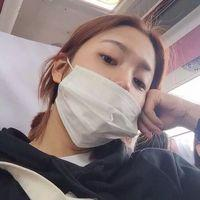WRONG: (56, 43, 155, 142)
